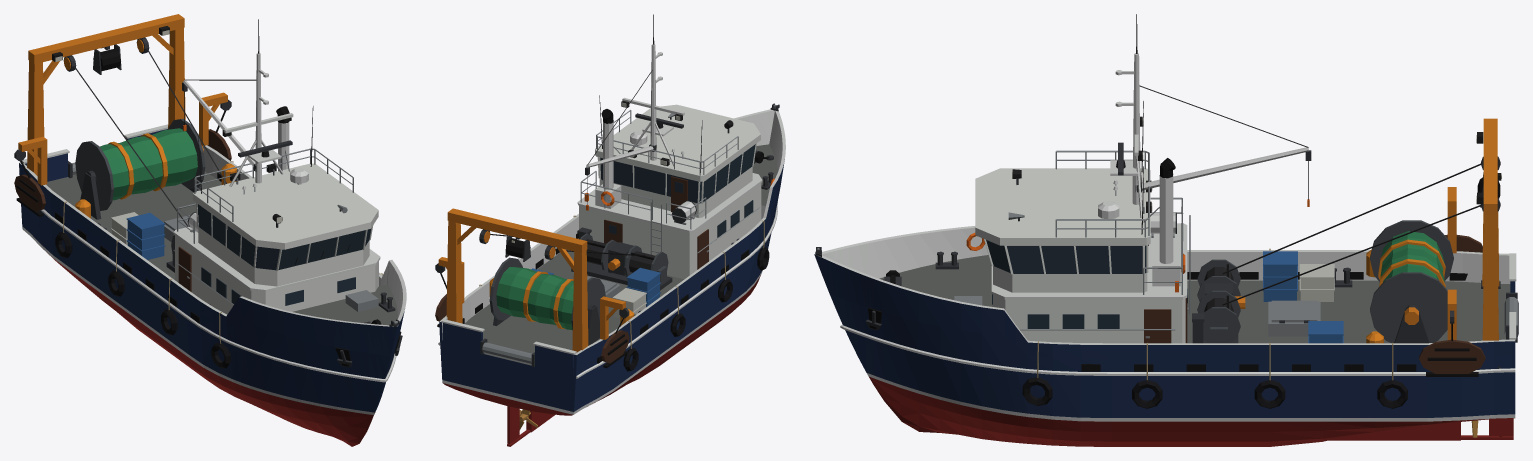
File: trawler_mid.glb
The picture shows the model from 3 angles, left to right: view 1: azimuth 30°, elevation 25°; view 2: azimuth 150°, elevation 25°; view 3: azimuth 270°, elevation 25°; orthographic projection. The views are drawn at different scales.
Parts seen in each view (by area): view 1: fixed, hull, gantry, net, glass, window; view 2: fixed, hull, gantry, net, glass, window; view 3: fixed, hull, gantry, glass, net, window.
Part boxes in pixels (x1,y1,x2,y2): fixed: (14, 19, 406, 446); hull: (19, 129, 404, 412); gantry: (18, 14, 227, 185); net: (100, 128, 197, 200); glass: (197, 204, 370, 270); window: (201, 267, 355, 305); fixed: (435, 14, 785, 446); hull: (439, 159, 784, 411); gantry: (438, 208, 625, 352); net: (496, 267, 573, 329); glass: (600, 144, 755, 203); window: (609, 200, 753, 237); fixed: (814, 14, 1518, 446); hull: (814, 254, 1515, 417); gantry: (1235, 118, 1499, 340); glass: (986, 240, 1146, 273); net: (1380, 231, 1444, 281); window: (992, 288, 1187, 328).
Size of the model in its own units: 8.25 by 13.37 by 20.1.
